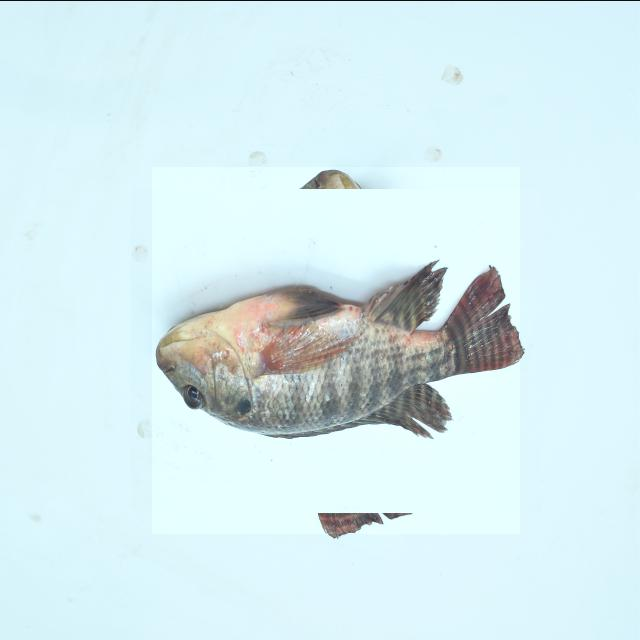Columnaris Disease: (152, 166, 520, 533)
